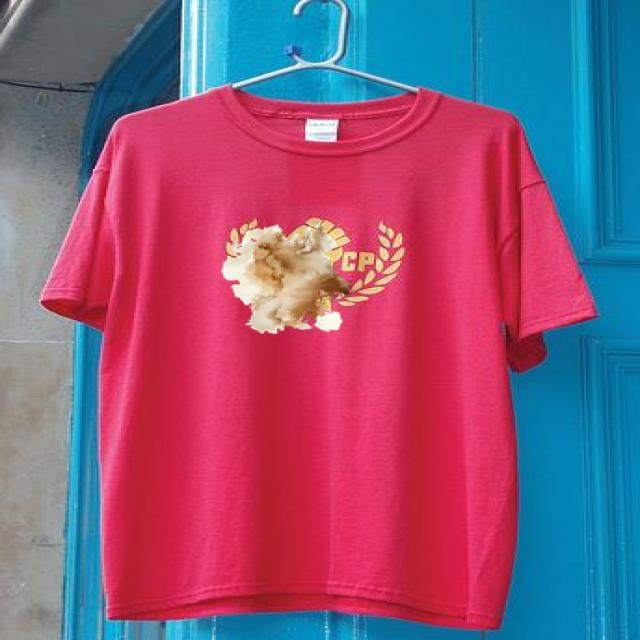stain: (225, 227, 352, 338)
